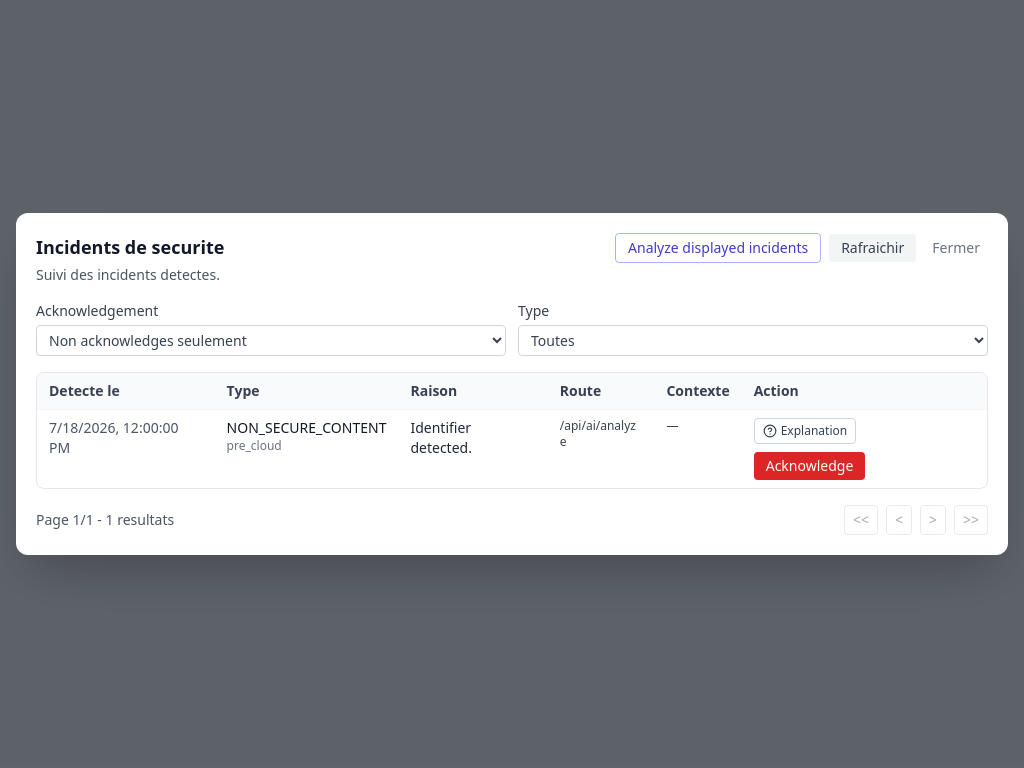
Test: SecurityIncidentsModal › creates one local summary for displayed incidents without displaying detected values
Step 1. Click the button "Analyze displayed incidents" → (718, 248), box x1=615 y1=233 x2=821 y2=263
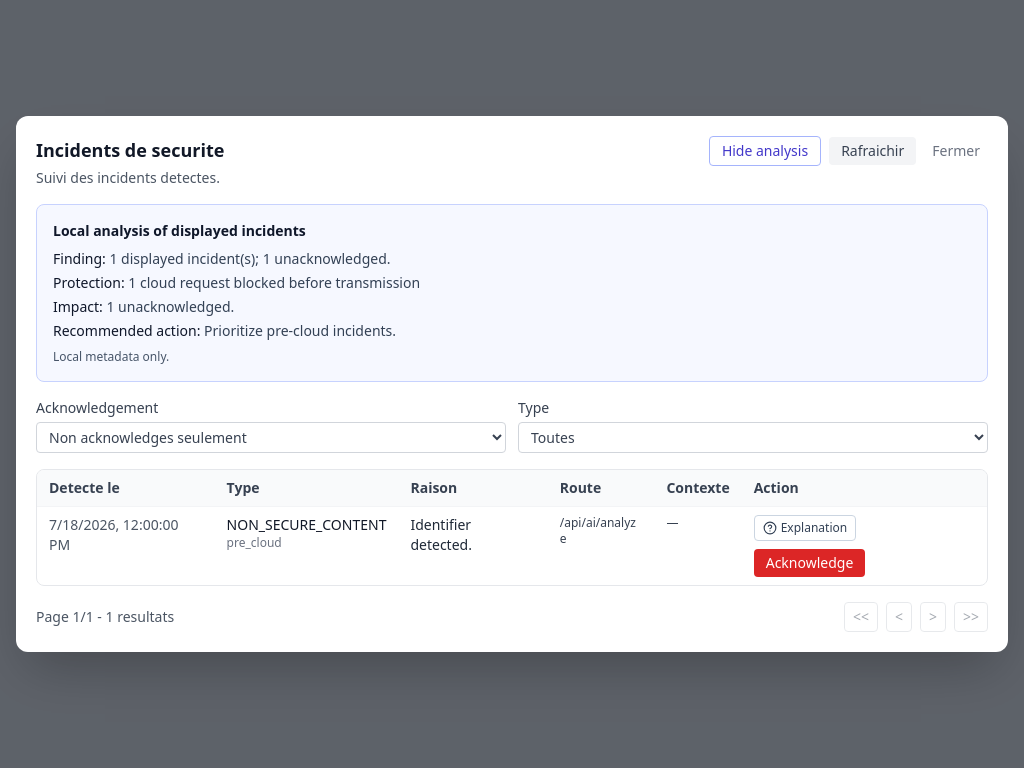
Expected: the heading "Local analysis of displayed incidents" is shown, x1=53 y1=221 x2=306 y2=240
Expected: the text "1 displayed incident(s); 1 unacknowledged." is shown, x1=109 y1=249 x2=390 y2=268
Expected: the text "Prioritize pre-cloud incidents." is shown, x1=204 y1=321 x2=396 y2=340
